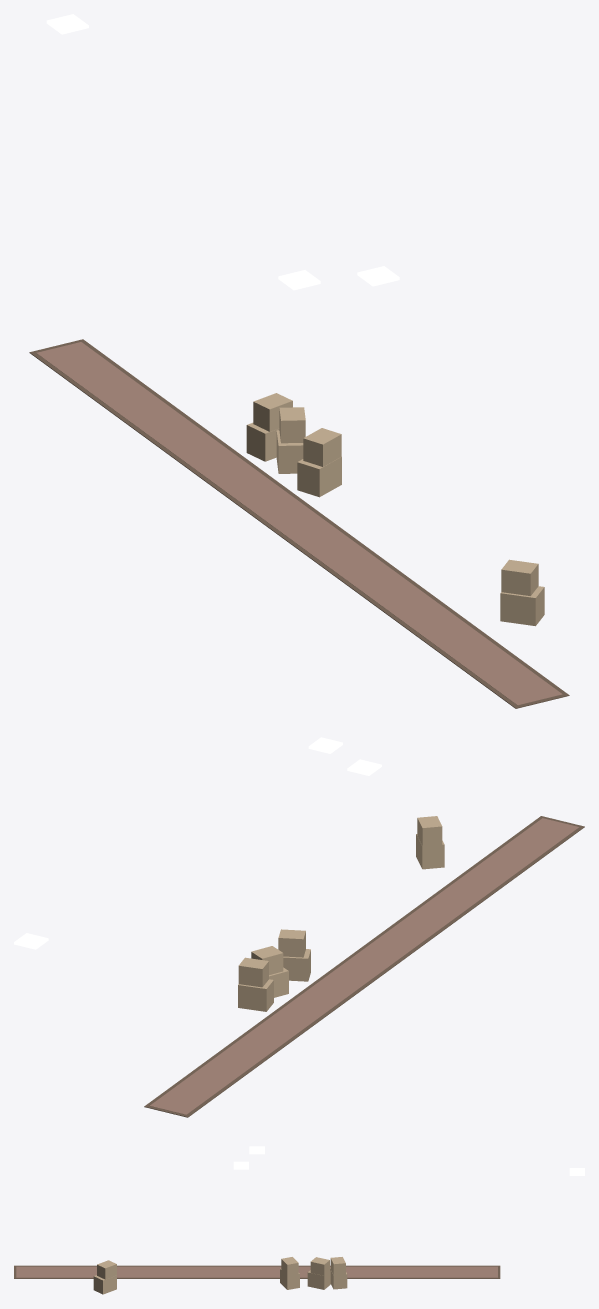
Rendered from fine-s0.glb.
3 views of the same model, one above another, from view 1: azimuth 30°, elevation 25°; view 2: azimuth 150°, elevation 25°; view 3: azimuth 270°, elevation 25° (orthographic). The views are drawn at different scales.
Visible parts, largest first — view 1: soft-s0, cardboard-box.002, crate.000, cardboard-box.000, cardboard-box.001; view 2: soft-s0, cardboard-box.000, cardboard-box.002, crate.000, cardboard-box.001; view 3: soft-s0, cardboard-box.002, cardboard-box.001, crate.000, cardboard-box.000.
Boxes of the visible parts, x1,y1,x2,y2 form: soft-s0: (29, 339, 569, 708); cardboard-box.002: (500, 559, 544, 626); crate.000: (297, 428, 341, 497); cardboard-box.000: (246, 393, 292, 461); cardboard-box.001: (276, 407, 305, 473); soft-s0: (144, 816, 584, 1117); cardboard-box.000: (238, 957, 273, 1011); cardboard-box.002: (416, 816, 444, 869); crate.000: (278, 929, 310, 981); cardboard-box.001: (251, 946, 288, 997); soft-s0: (14, 1265, 500, 1278); cardboard-box.002: (93, 1260, 116, 1294); cardboard-box.001: (307, 1257, 330, 1289); crate.000: (280, 1257, 299, 1289); cardboard-box.000: (330, 1257, 347, 1289).
Size of the model in its own units: 2.39 by 4.37 by 18.43.
